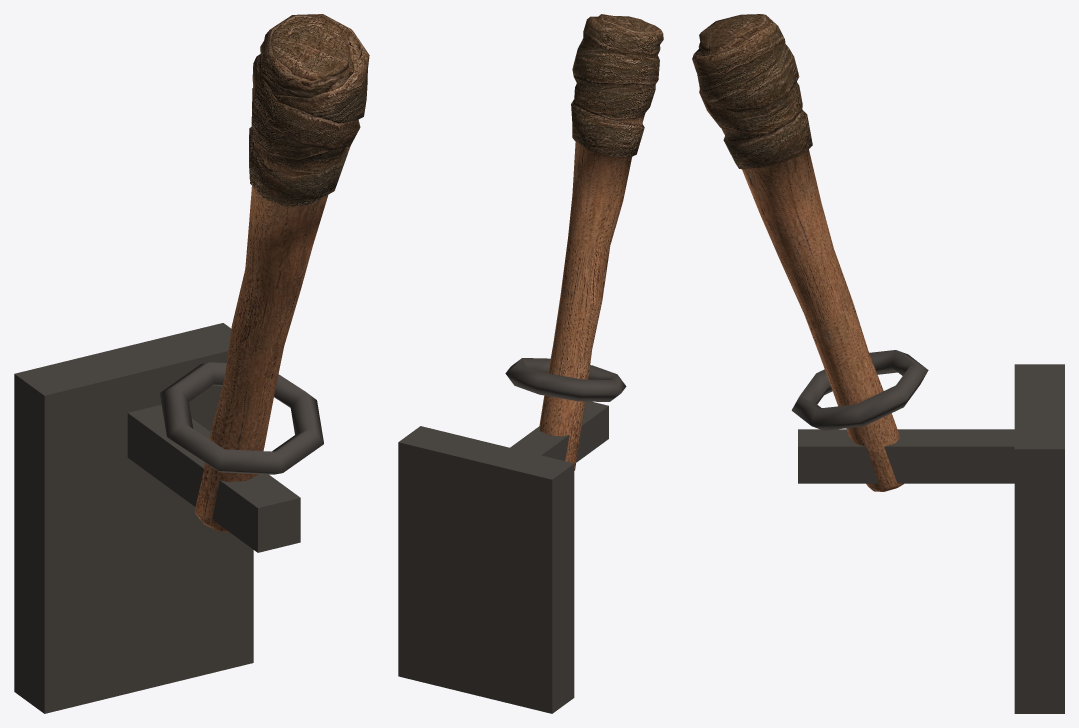
The model's file is wall-winter-torch-01.glb.
The picture shows the model from 3 angles, left to right: view 1: azimuth 30°, elevation 25°; view 2: azimuth 150°, elevation 25°; view 3: azimuth 270°, elevation 25°; orthographic projection. The views are drawn at different scales.
Parts seen in each view (by area): view 1: survival-torch-bracket-plate, tripo_node_f5b75a44-7fd1-4deb-8987-d00b03df71d1, survival-torch-bracket-arm, survival-torch-bracket-ring; view 2: survival-torch-bracket-plate, tripo_node_f5b75a44-7fd1-4deb-8987-d00b03df71d1, survival-torch-bracket-ring, survival-torch-bracket-arm; view 3: tripo_node_f5b75a44-7fd1-4deb-8987-d00b03df71d1, survival-torch-bracket-plate, survival-torch-bracket-arm, survival-torch-bracket-ring.
Part boxes in pixels (<box>): survival-torch-bracket-plate: <box>14,323,253,713</box>; tripo_node_f5b75a44-7fd1-4deb-8987-d00b03df71d1: <box>194,14,369,532</box>; survival-torch-bracket-arm: <box>127,404,300,552</box>; survival-torch-bracket-ring: <box>160,362,323,474</box>; survival-torch-bracket-plate: <box>398,426,574,713</box>; tripo_node_f5b75a44-7fd1-4deb-8987-d00b03df71d1: <box>539,14,663,470</box>; survival-torch-bracket-ring: <box>505,358,626,401</box>; survival-torch-bracket-arm: <box>510,401,608,462</box>; tripo_node_f5b75a44-7fd1-4deb-8987-d00b03df71d1: <box>692,14,903,491</box>; survival-torch-bracket-plate: <box>1014,364,1064,713</box>; survival-torch-bracket-arm: <box>798,429,1014,483</box>; survival-torch-bracket-ring: <box>791,350,928,430</box>.
Bounding box in the file's own units: 0.22 × 0.7874 × 0.4085.
Materials: 2 (1 with a texture image).
